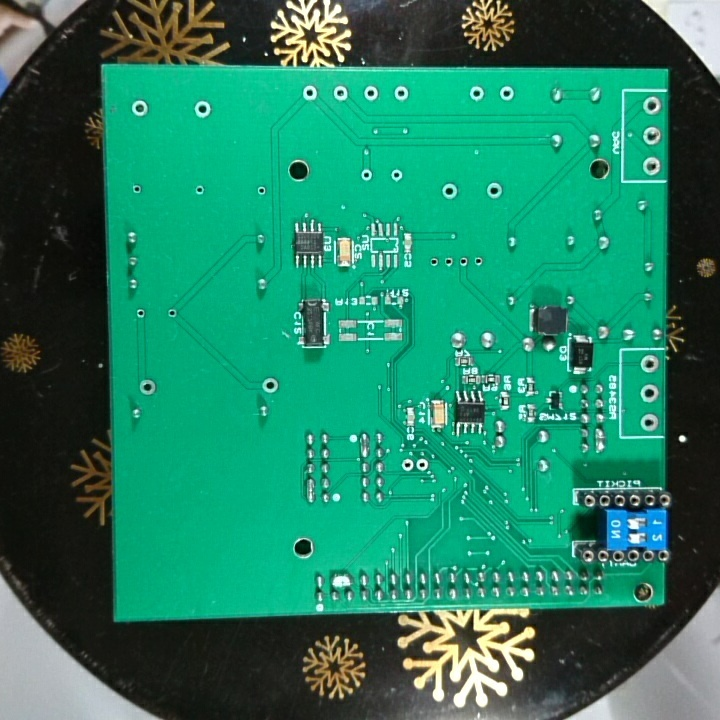F: (640, 123, 662, 148), (640, 153, 662, 178), (639, 382, 660, 406), (638, 411, 660, 433), (192, 98, 214, 120), (642, 94, 662, 118), (259, 376, 281, 397), (129, 98, 150, 120), (299, 82, 320, 104), (330, 83, 351, 104), (467, 83, 487, 105), (439, 180, 459, 202), (639, 354, 659, 375), (361, 83, 381, 104), (390, 84, 411, 103), (485, 180, 504, 201), (137, 377, 156, 397), (497, 85, 517, 104), (414, 456, 430, 475), (399, 457, 415, 475), (457, 252, 471, 272), (191, 181, 206, 199), (388, 166, 403, 183), (359, 167, 374, 183), (427, 254, 442, 270), (471, 252, 483, 271), (130, 182, 144, 198), (254, 182, 268, 198), (165, 305, 178, 321), (443, 253, 456, 269), (134, 305, 147, 320)
P: (328, 571, 356, 589), (592, 424, 607, 455), (302, 476, 317, 506), (357, 429, 371, 460)
